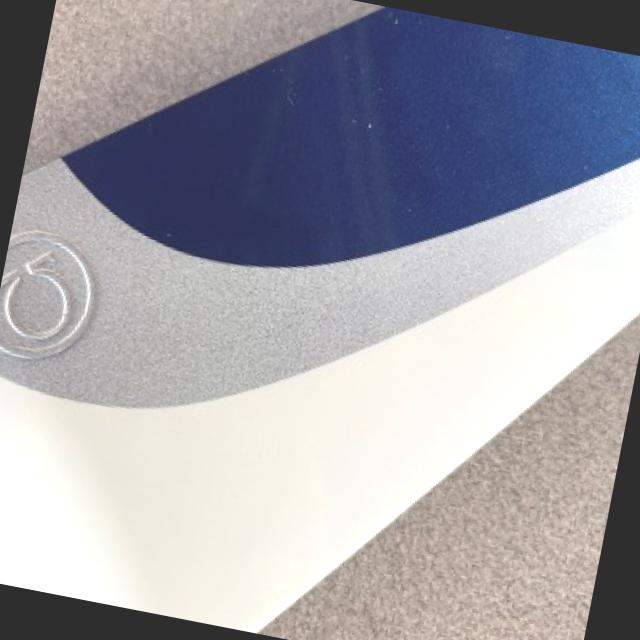healthy: (259, 314, 640, 640)
